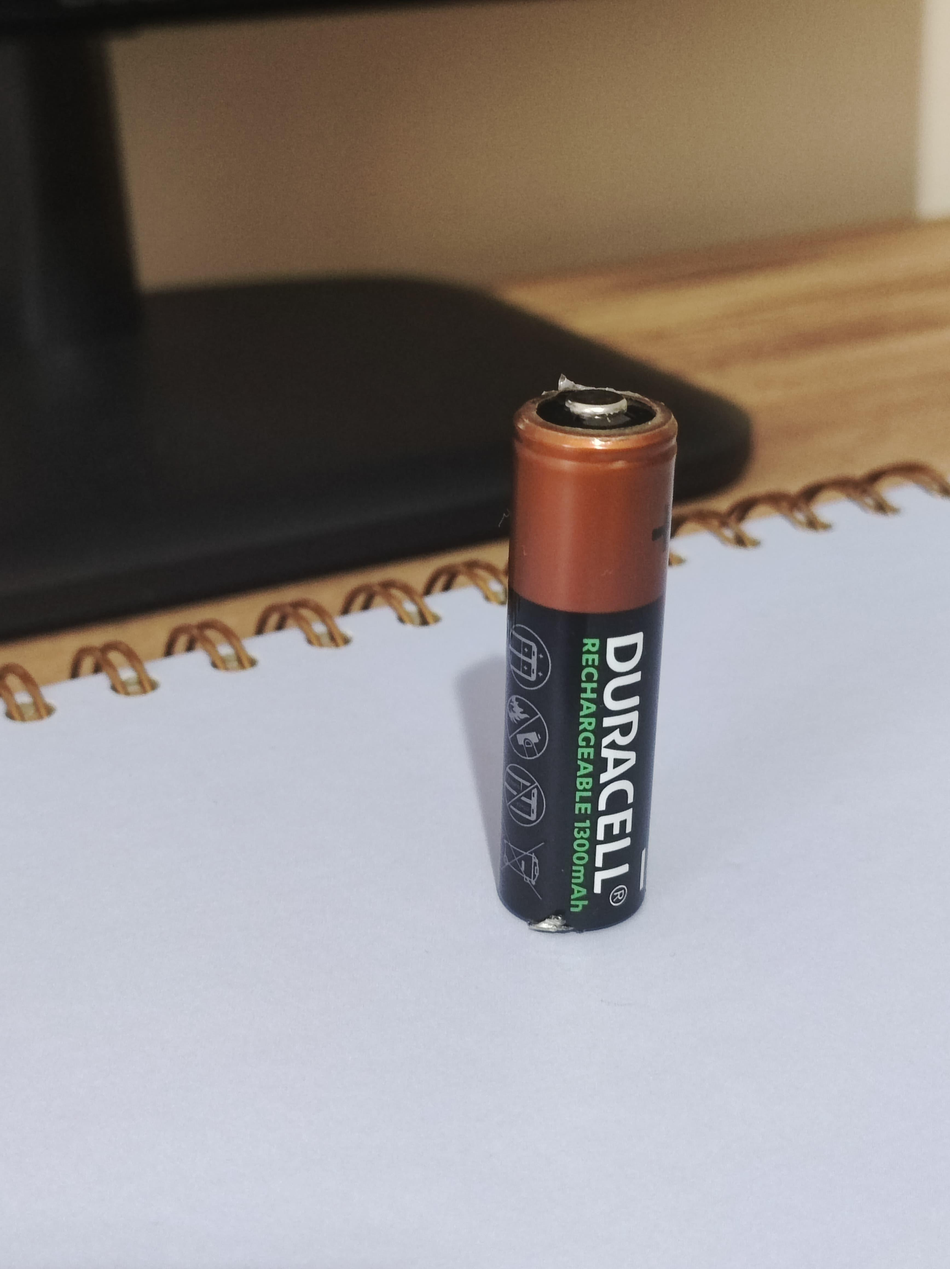AA: (495, 373, 679, 933)
